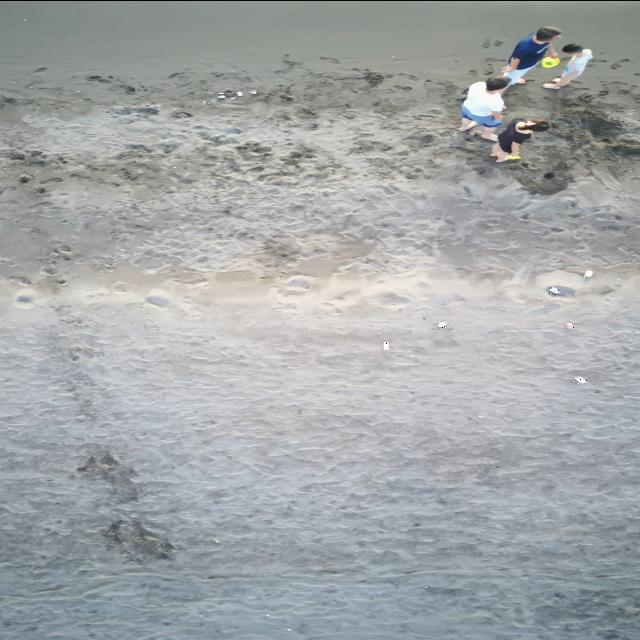Garbage: (547, 284, 575, 296), (540, 56, 559, 68), (16, 293, 32, 303), (19, 173, 31, 183), (221, 88, 233, 96), (573, 375, 586, 382), (547, 287, 559, 293), (507, 154, 520, 159), (584, 270, 592, 278), (437, 320, 446, 327), (565, 322, 575, 327), (216, 92, 223, 99), (383, 340, 387, 350), (249, 89, 256, 94), (236, 91, 241, 96), (231, 96, 236, 100), (203, 100, 207, 103)
